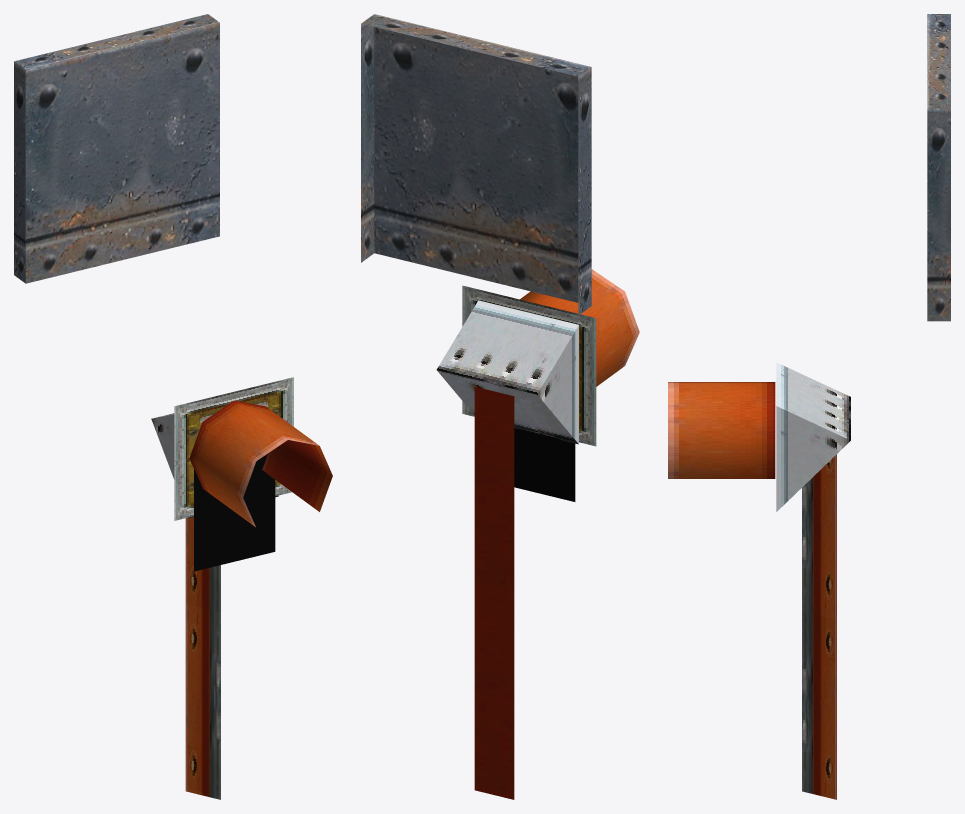
File: TrafficLight.obj
3 renders of one model, left to right at view 1: azimuth 30°, elevation 25°; view 2: azimuth 150°, elevation 25°; view 3: azimuth 270°, elevation 25°, orthographic. The views are drawn at different scales.
Size of the model in its own units: 19 by 66.99 by 24.09.
6 materials, 6 textured.
